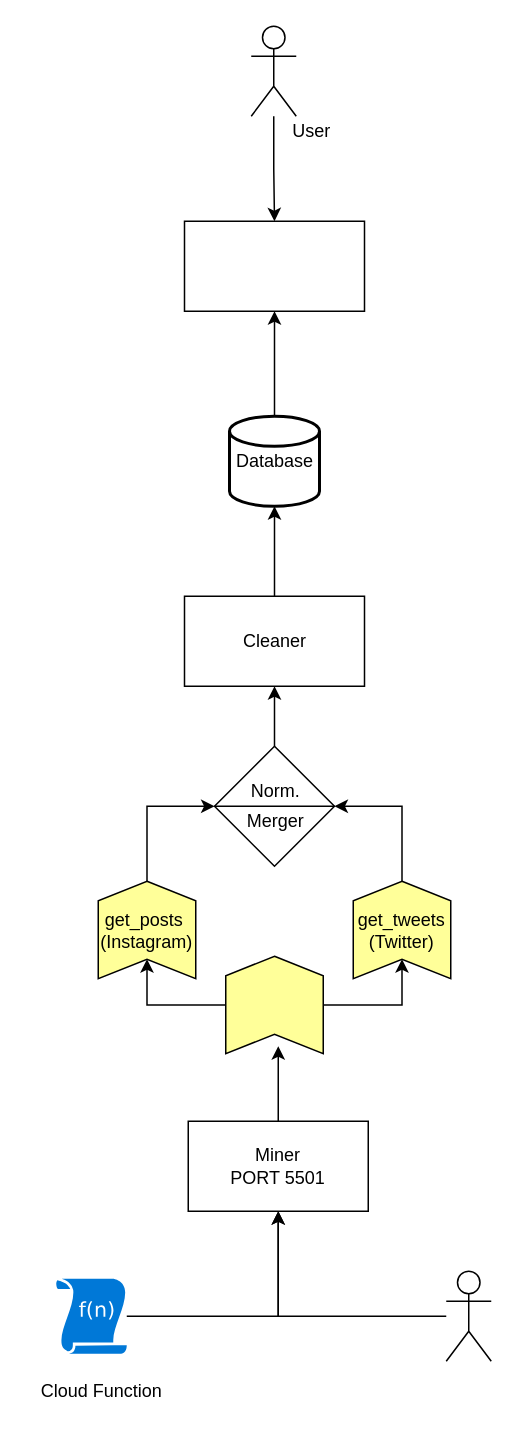
This 518x1433 diagram has some shape labels left out. The centre of each missing label's shape, as x and y in pixels:
Actor: (x=468, y=1315)
main: (x=273, y=1004)
PowerBI: (x=273, y=265)
